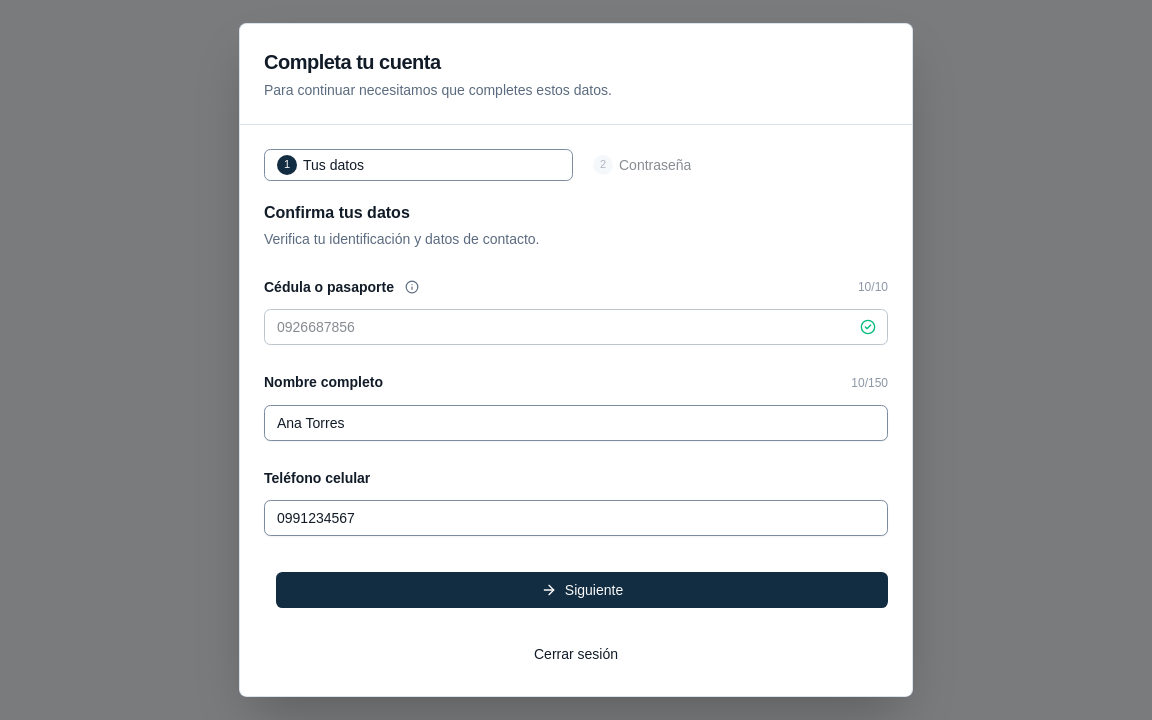
Scenario: CompleteProfileModal › muestra los errores de validación del servidor
Datos ya válidos (precargados): el único paso previo a la contraseña se salta de inmediato.
Click the button "Siguiente" at (582, 590), box 276,572 -> 888,608
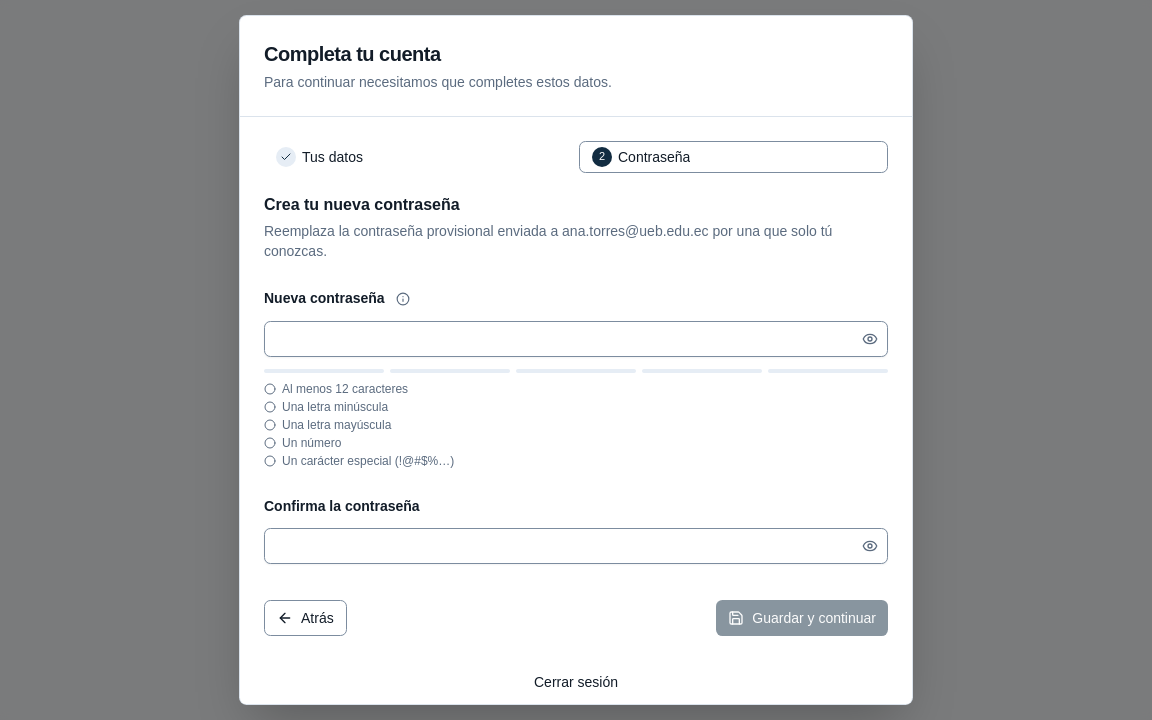
Type "Provisional1!" into the password field labelled "Nueva contraseña" at (576, 339), box 264,321 -> 888,357
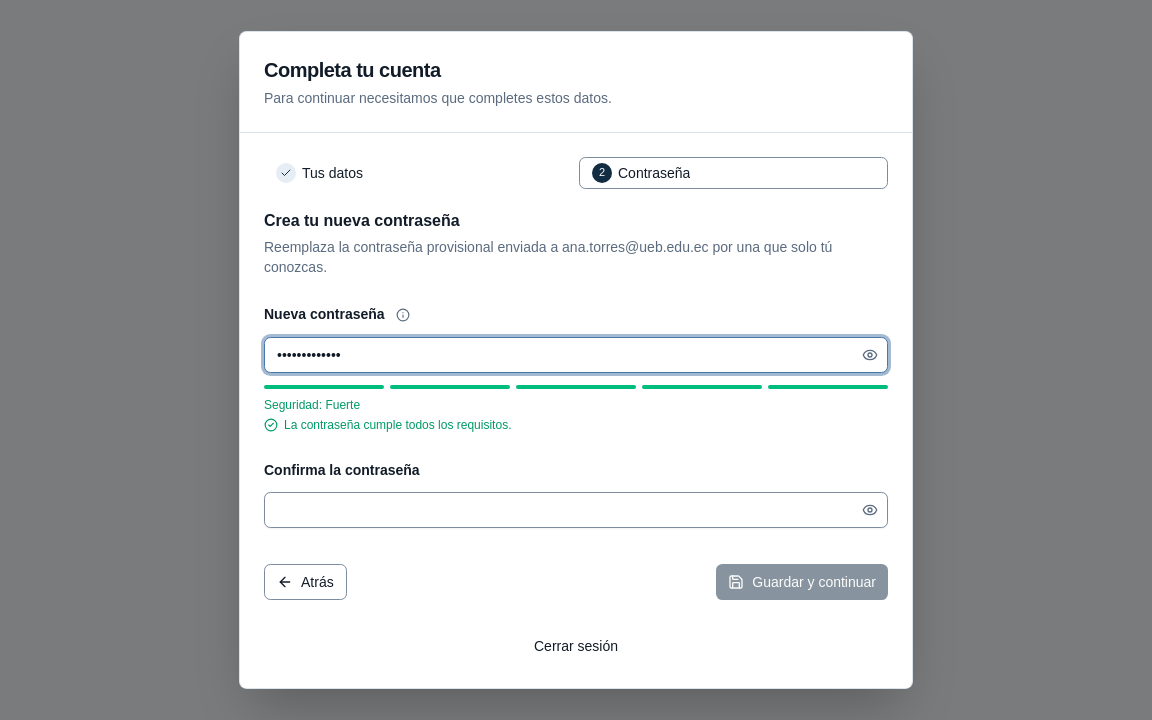
Type "Otra" into the password field labelled "Confirma la contraseña" at (576, 510), box 264,492 -> 888,528
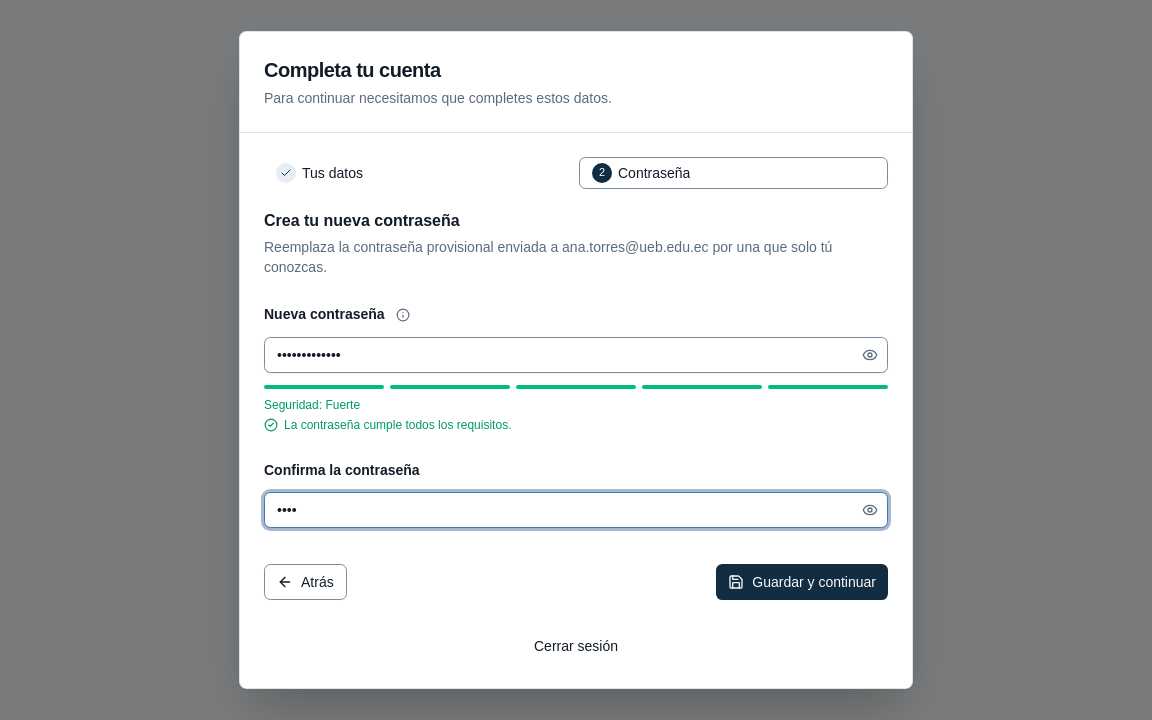
Click the button "Guardar y continuar" at (802, 582), box 716,564 -> 888,600
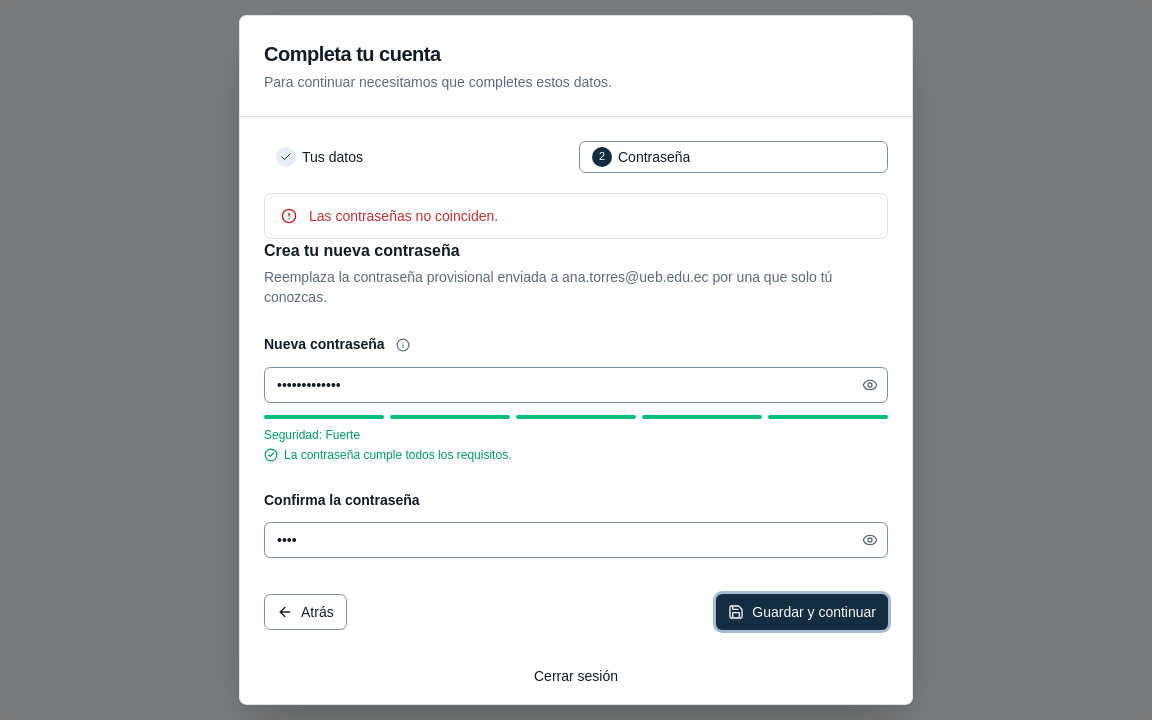
Expected: the message reads "Las contraseñas no coinciden.", 309,208 -> 498,224
Type "Provisional1!" into the password field labelled "Confirma la contraseña" at (576, 540), box 264,522 -> 888,558
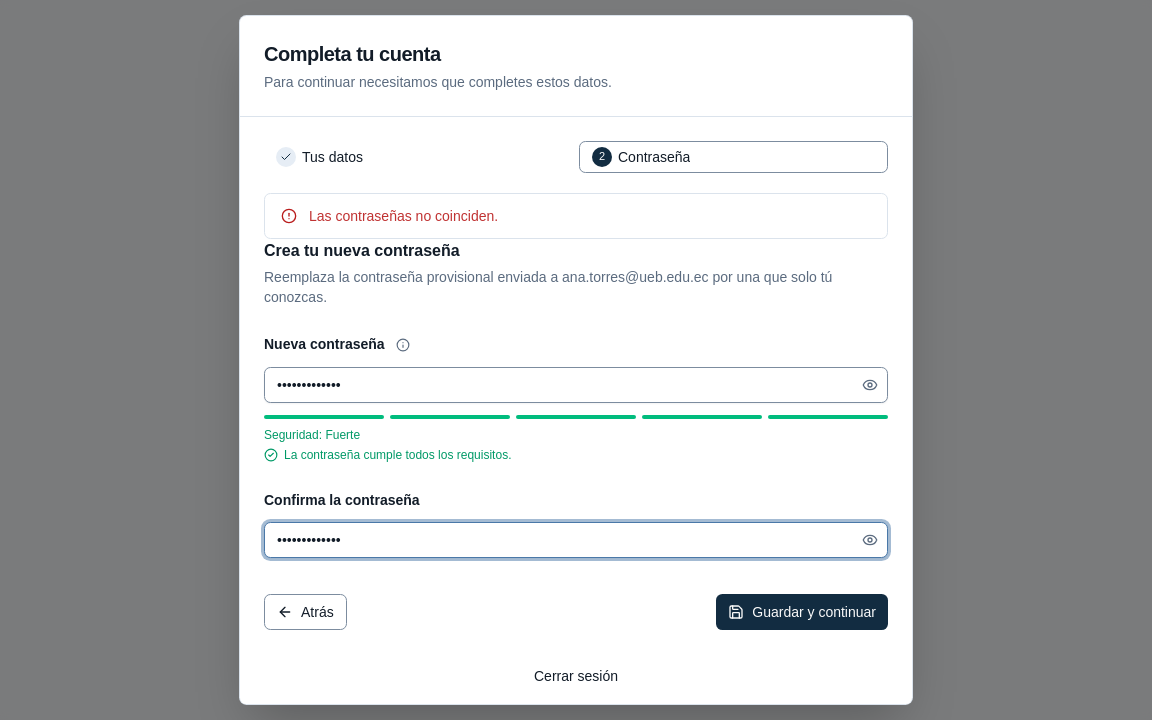
Click the button "Guardar y continuar" at (802, 612), box 716,594 -> 888,630
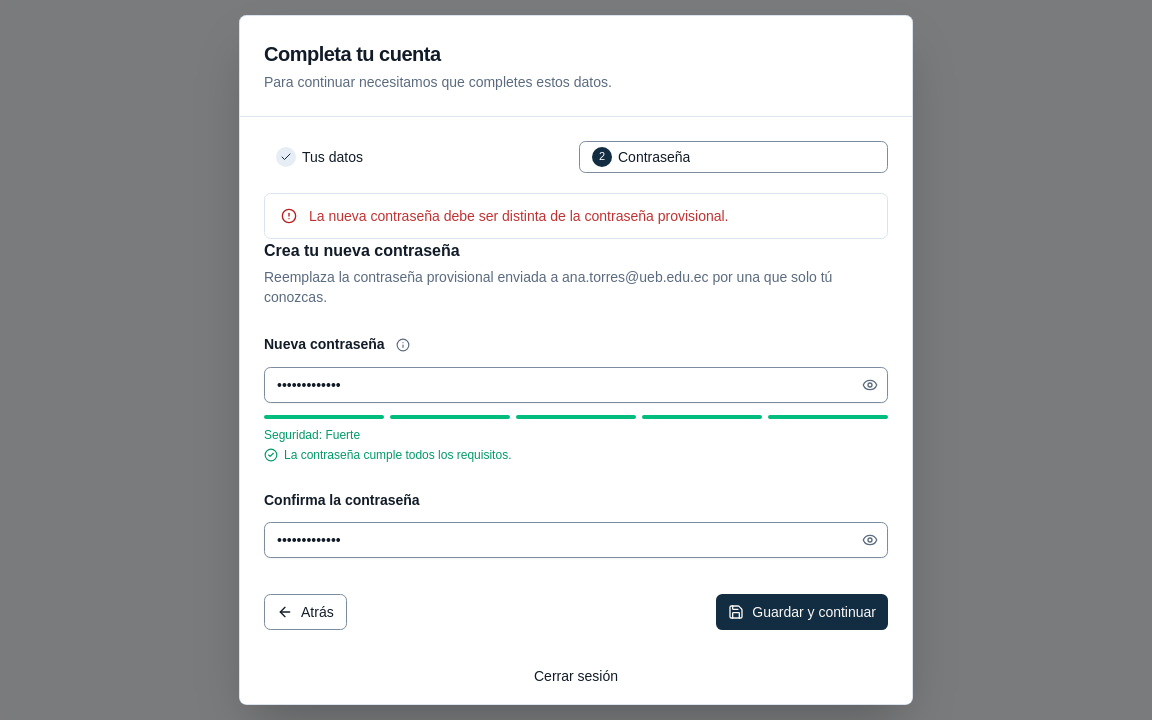
Expected: the text "La nueva contraseña debe ser distinta de la contraseña provisional." is shown, 309,208 -> 728,224
